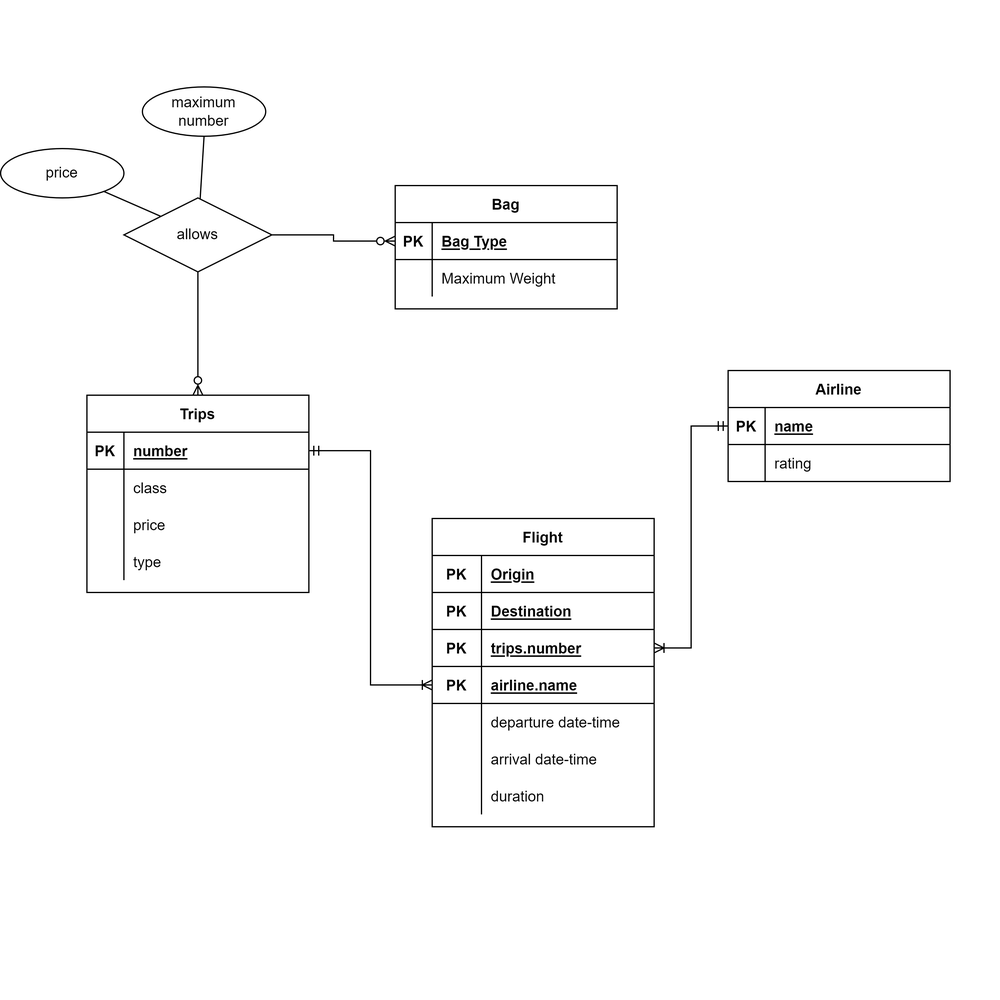attribute: (148, 81, 269, 139), (1, 147, 130, 199)
entity: (418, 508, 673, 844), (74, 384, 315, 599), (716, 361, 960, 489), (386, 186, 628, 313)
relationship: (124, 186, 277, 266)
